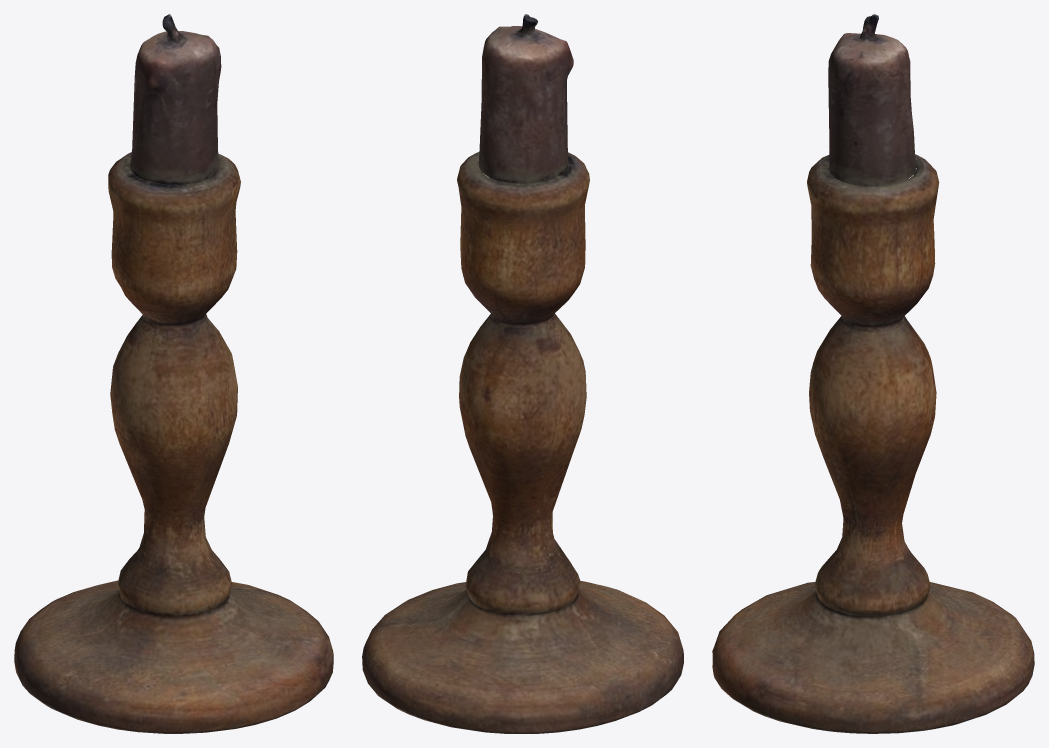
File: wooden_candlestick.glb
3 renders of one model, left to right at view 1: azimuth 30°, elevation 25°; view 2: azimuth 150°, elevation 25°; view 3: azimuth 270°, elevation 25°, orthographic.
Visible parts, largest first — view 1: wooden_candlestick; view 2: wooden_candlestick; view 3: wooden_candlestick.
Boxes of the visible parts, bbox=[...] form: wooden_candlestick: bbox=[14, 14, 333, 733]; wooden_candlestick: bbox=[362, 14, 683, 733]; wooden_candlestick: bbox=[712, 14, 1034, 733].
Size of the model in its own units: 0.0972 by 0.2196 by 0.0984.
Materials: 1 (1 with a texture image).
